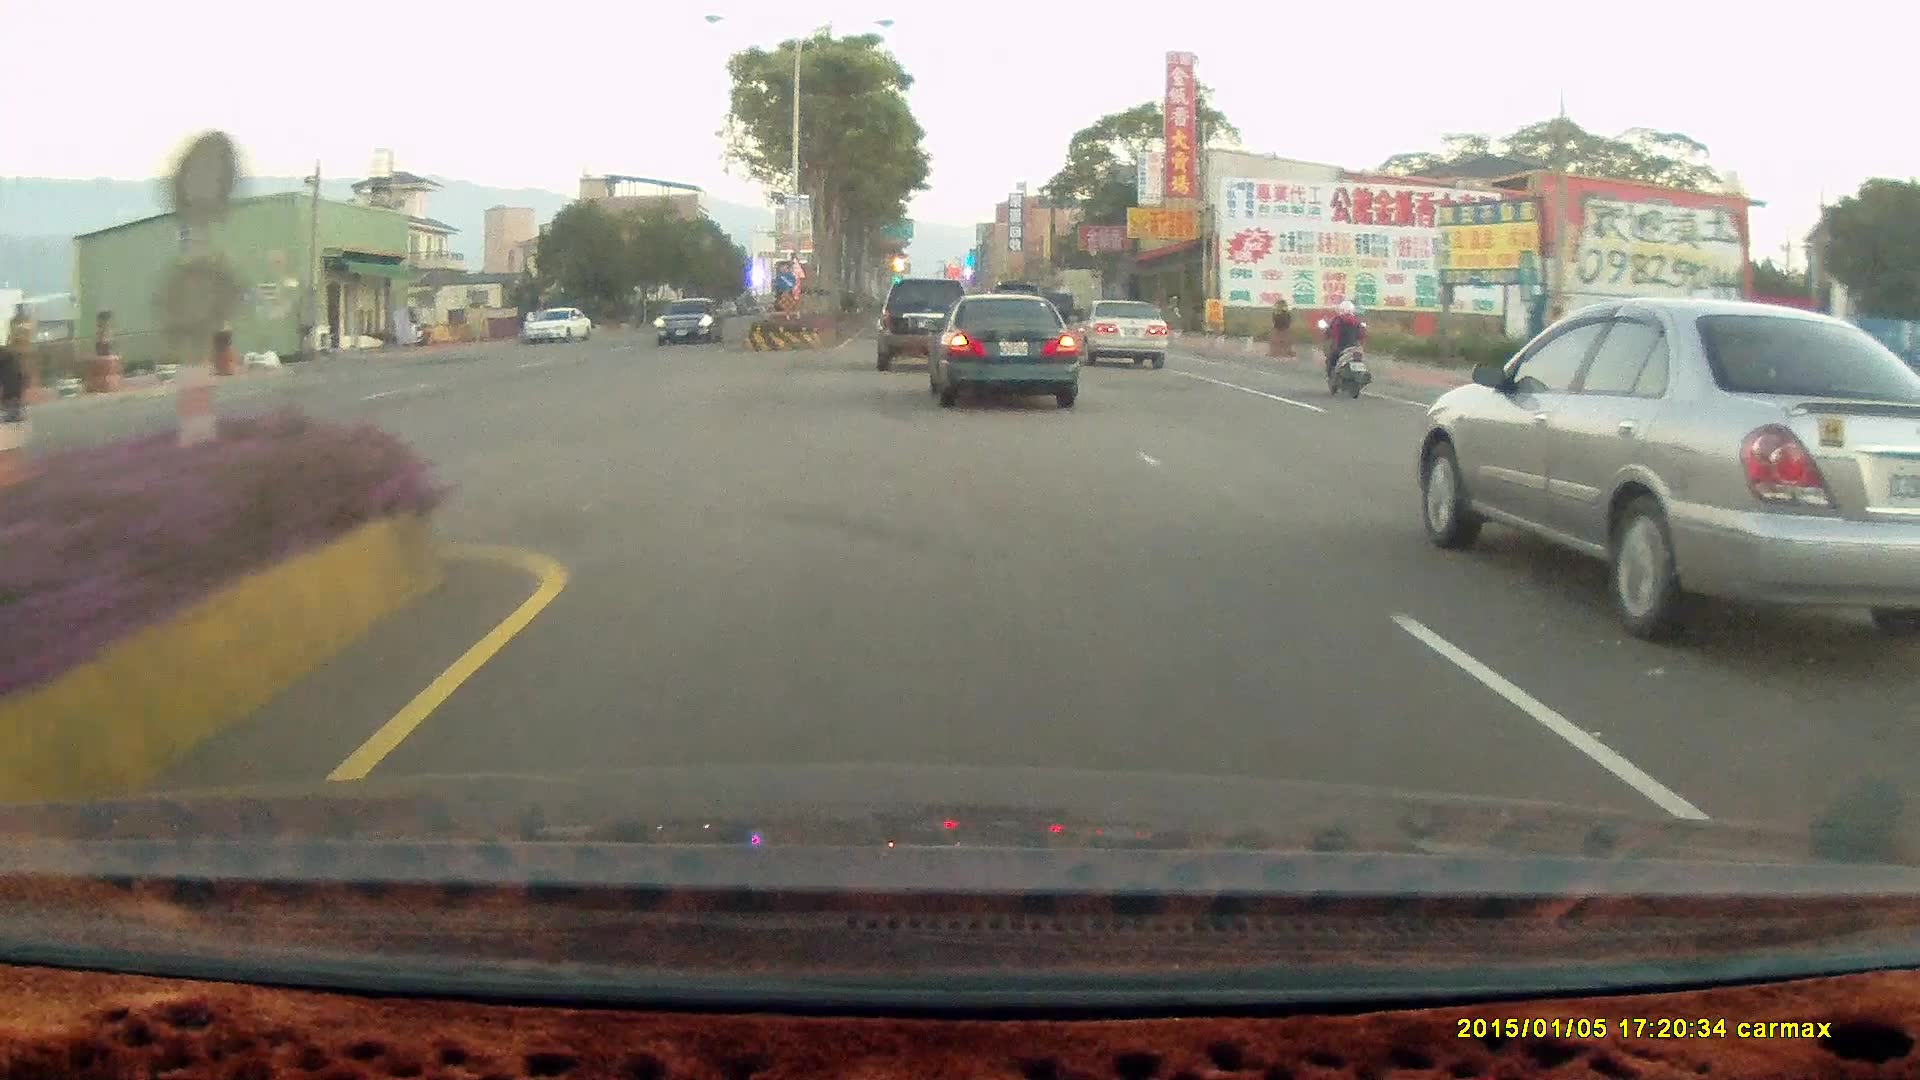pedestrian: (0, 341, 27, 427)
rider: (1308, 287, 1383, 409), (1314, 294, 1370, 393)
vehicle: (1414, 296, 1920, 649), (922, 290, 1078, 406), (931, 298, 1081, 407), (880, 274, 976, 374), (876, 278, 970, 371), (1071, 296, 1169, 366), (1072, 301, 1171, 368), (655, 297, 726, 346), (655, 295, 725, 342), (525, 307, 594, 347), (521, 305, 591, 343)
